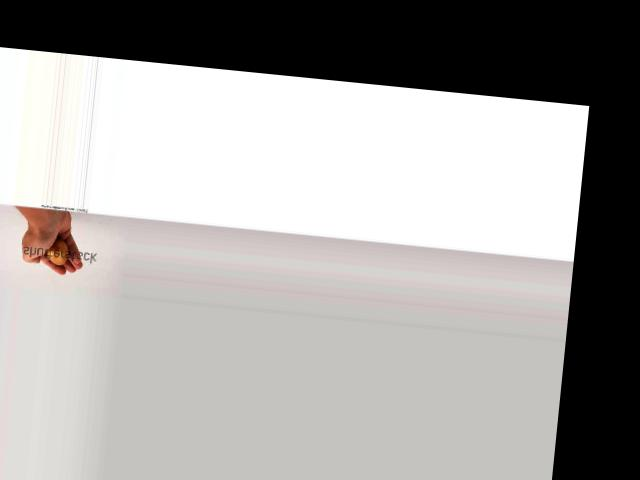egg: (46, 237, 70, 265)
